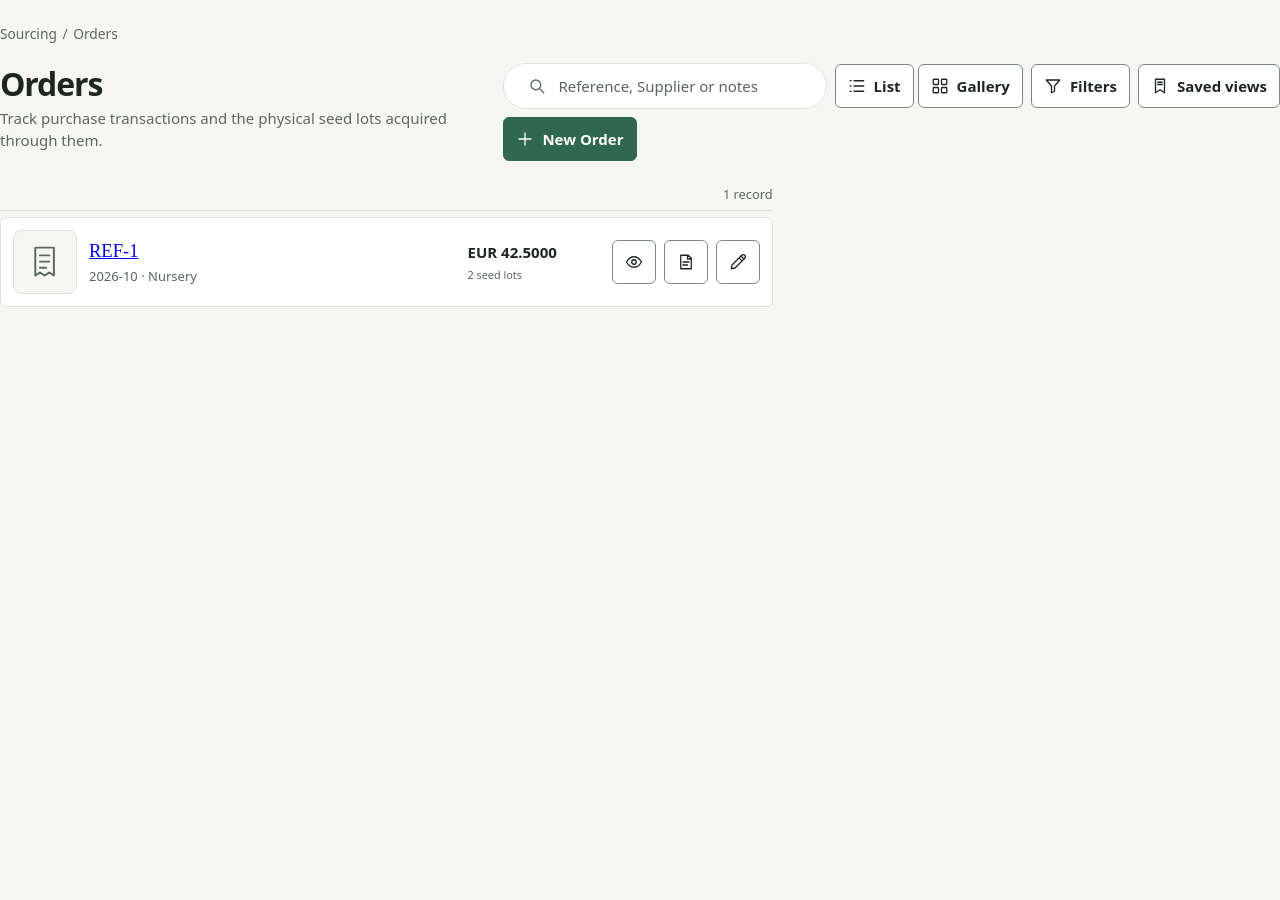
it: pristine backdrop click closes New Order and restores focus without confirmation
Click the button "New Order". click: [570, 139]
box: [503,117,636,161]
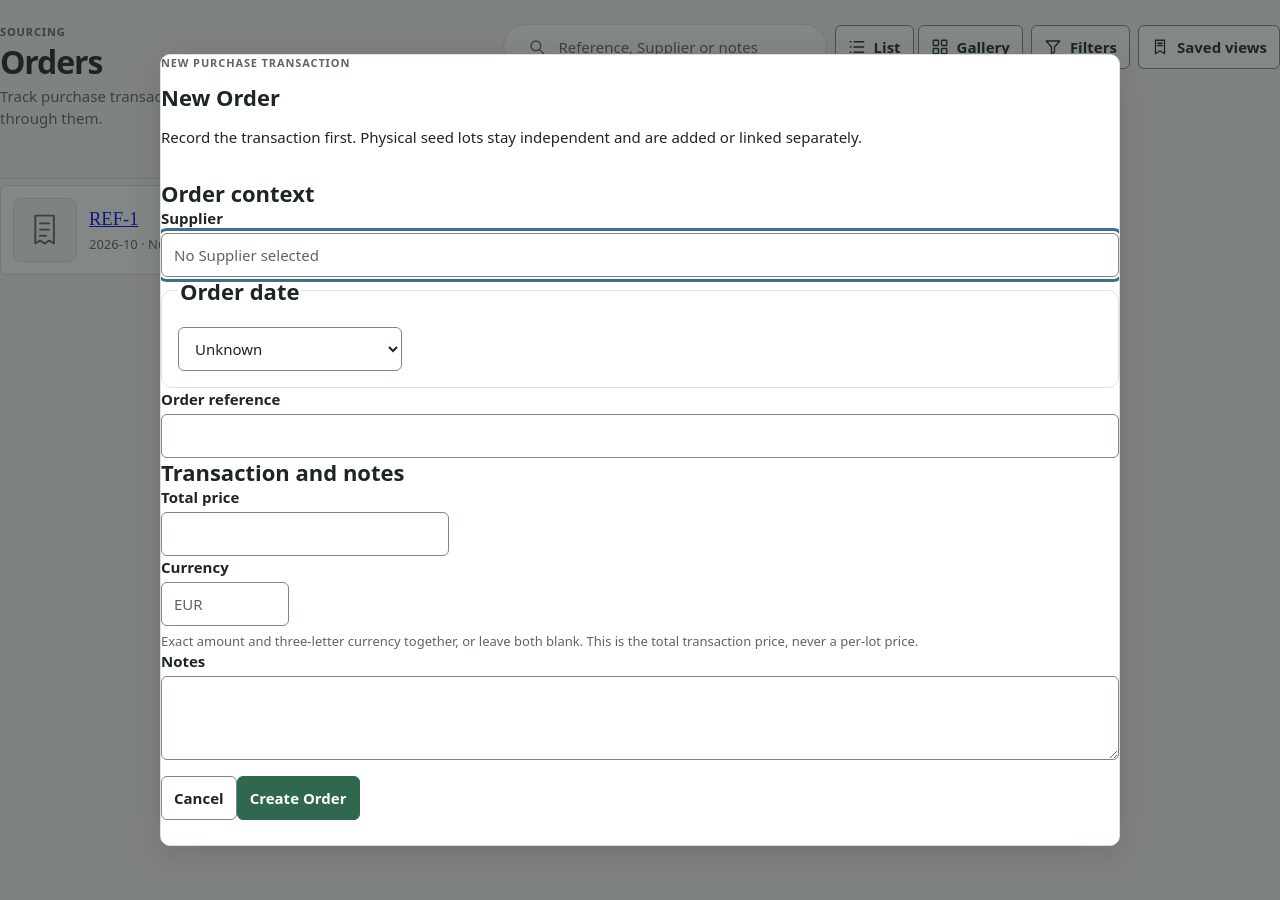
Click the dialog "New Order". click: [640, 450]
box: [160,54,1120,846]
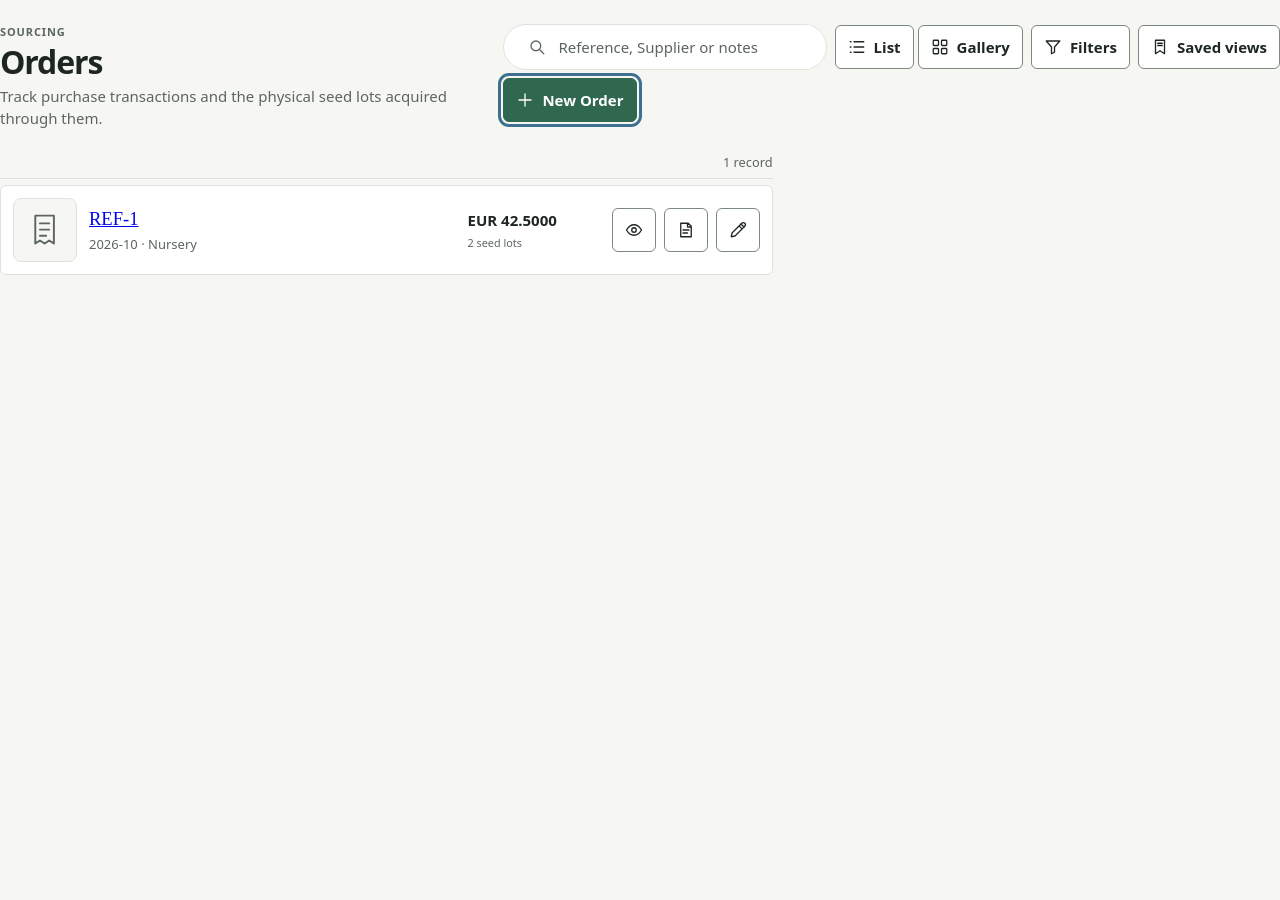
Now the dialog is gone
